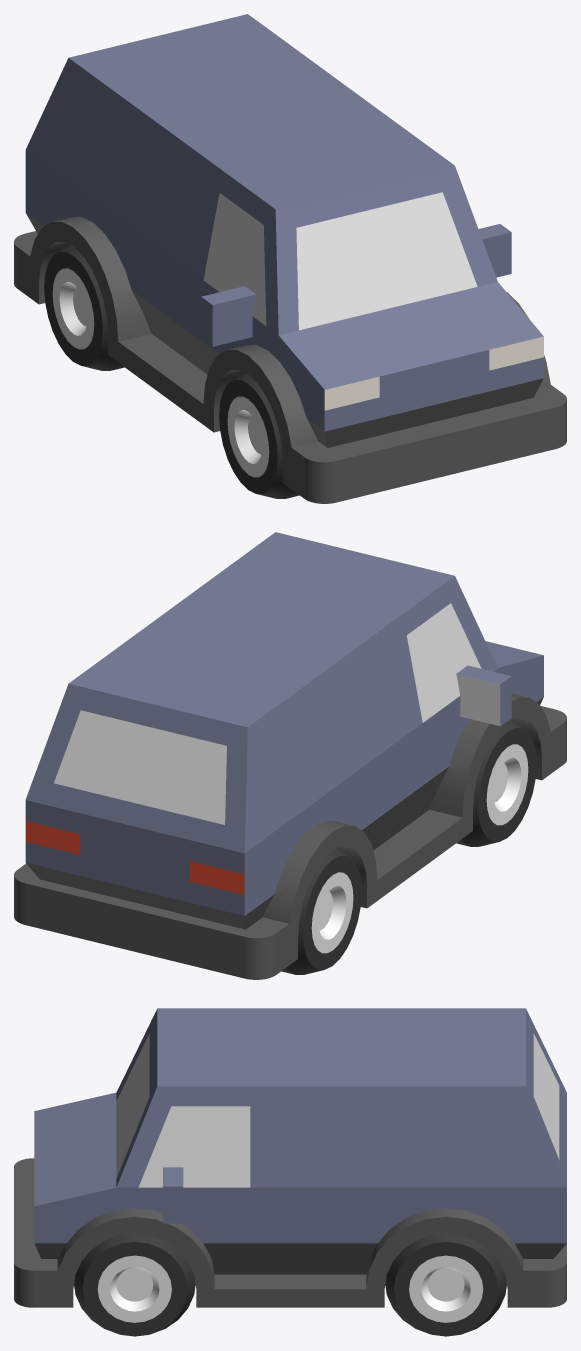
The model's file is van_silver.fbx.
3 renders of one model, top to bottom at view 1: azimuth 30°, elevation 25°; view 2: azimuth 150°, elevation 25°; view 3: azimuth 270°, elevation 25°, orthographic. The views are drawn at different scales.
Parts seen in each view (by area): view 1: van; view 2: van; view 3: van.
Part boxes in pixels (x1,y1,x2,y2): van: (14, 14, 566, 503); van: (14, 532, 566, 979); van: (14, 1008, 566, 1336).
Bounding box in the file's own units: 11.25 × 9.75 × 20.25.
